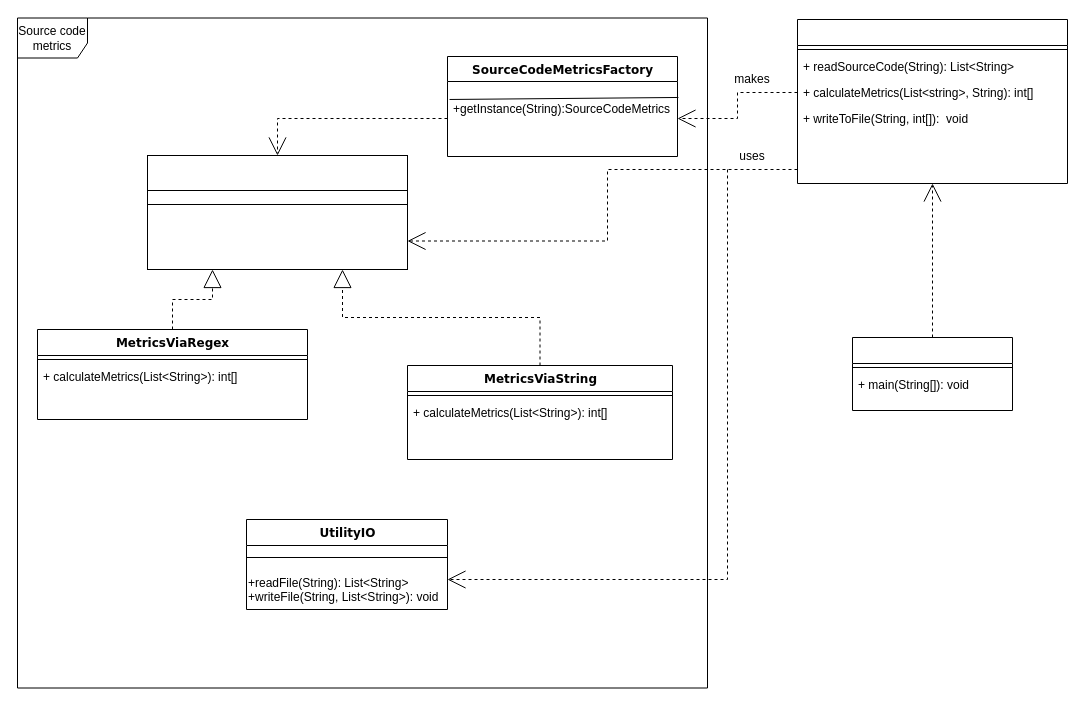
Some shapes in this 1085 by 705 pixel diagram are drawn without their labels. The box of each missing label's shape, as (x1, y1, x2, y2) in pixels:
<<Interface>> SourceCodeMetrics + calculateMetrics(List<String>): int[]: (146, 154, 408, 270)
MetricsCalculation: (796, 18, 1068, 184)
MetricsCalculationTest: (852, 336, 1012, 410)
